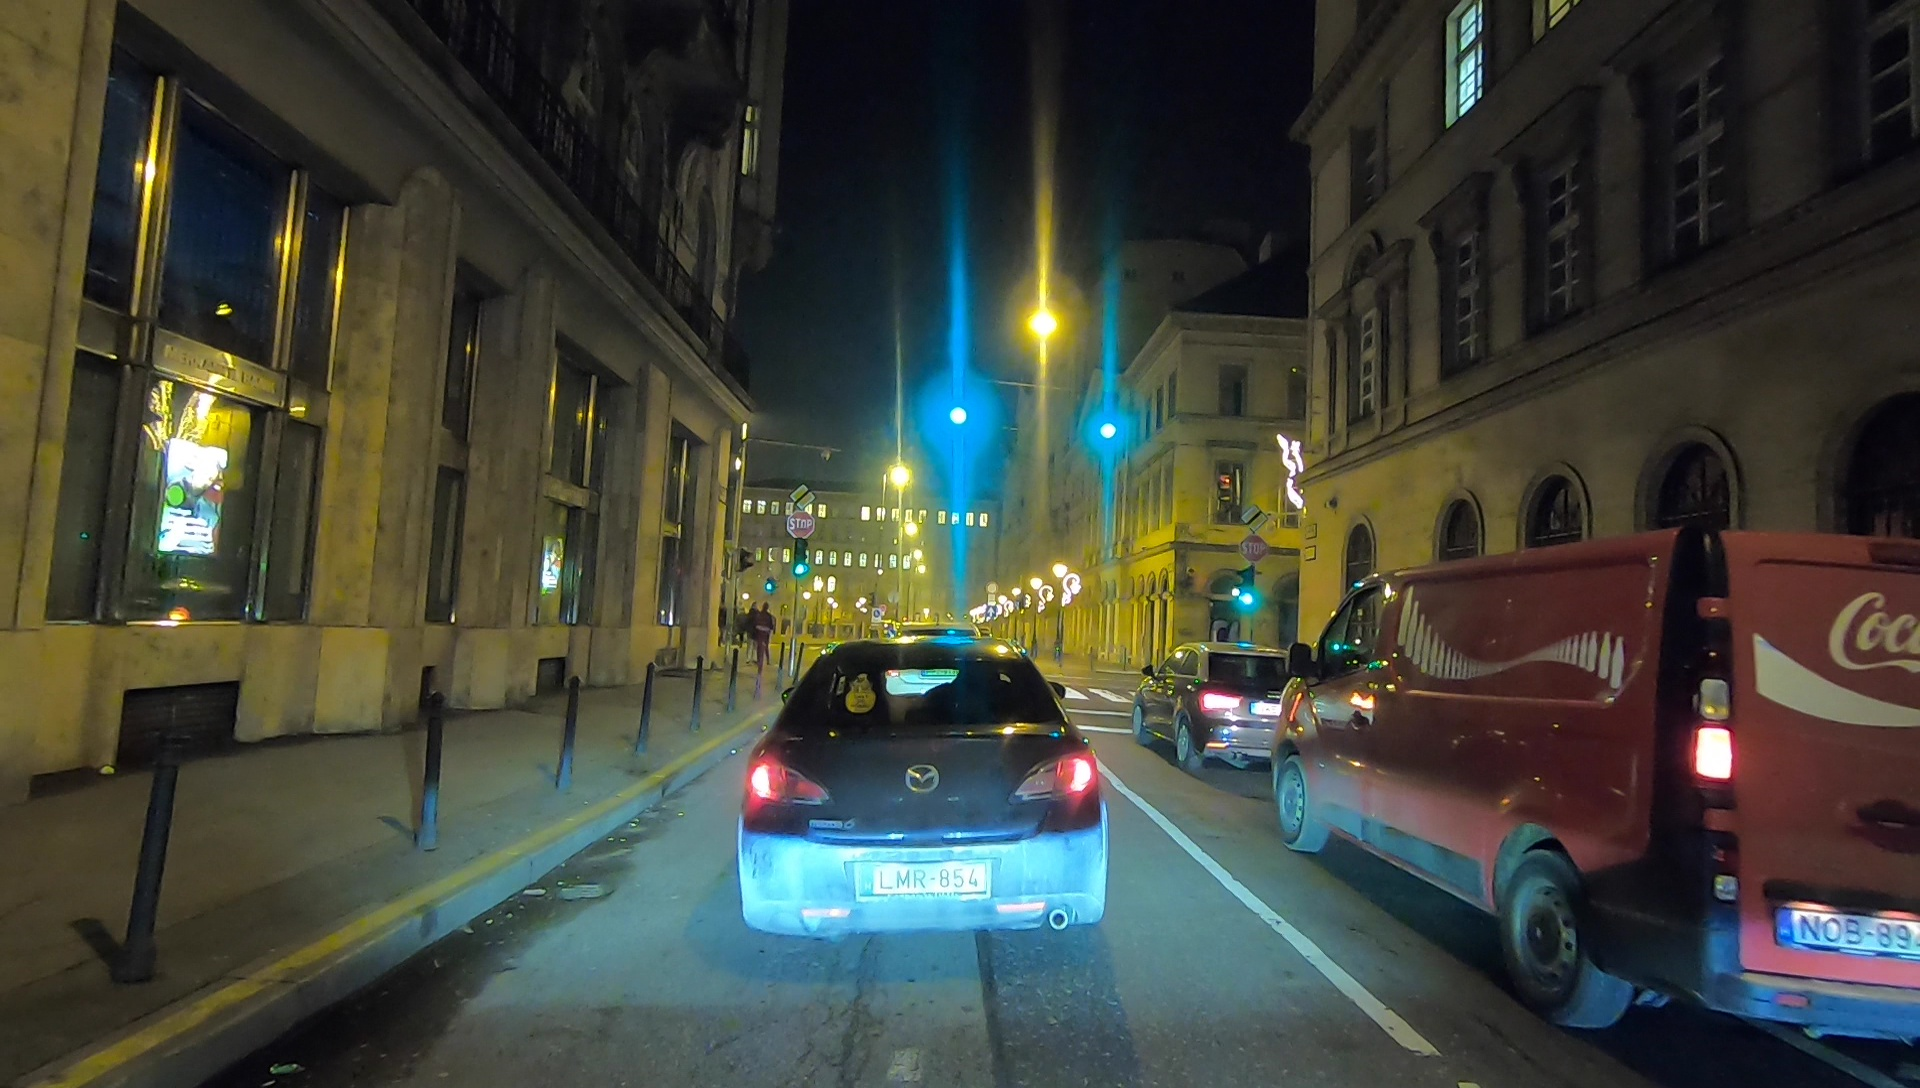person: (756, 602, 773, 671), (743, 604, 751, 663)
